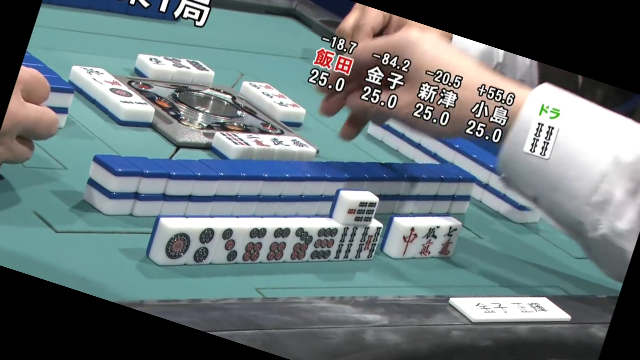Tehai: (139, 207, 465, 265)
